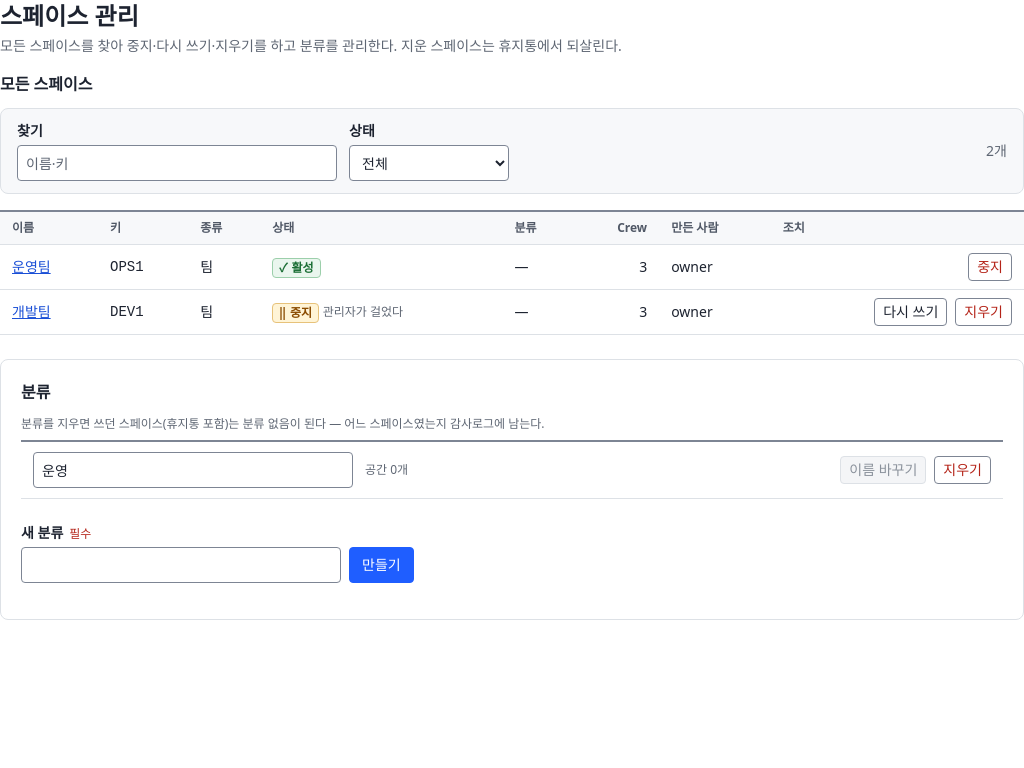
Test: AdminSpacesPage — 모든 스페이스 › **그만두면 보내지 않는다** — 중지·지우기 모두
The image size is (1024, 768).
Expected: the link "운영팀" is shown, [12,257,51,276]
Click the button "중지". click: (990, 267)
box: [968,253,1012,281]
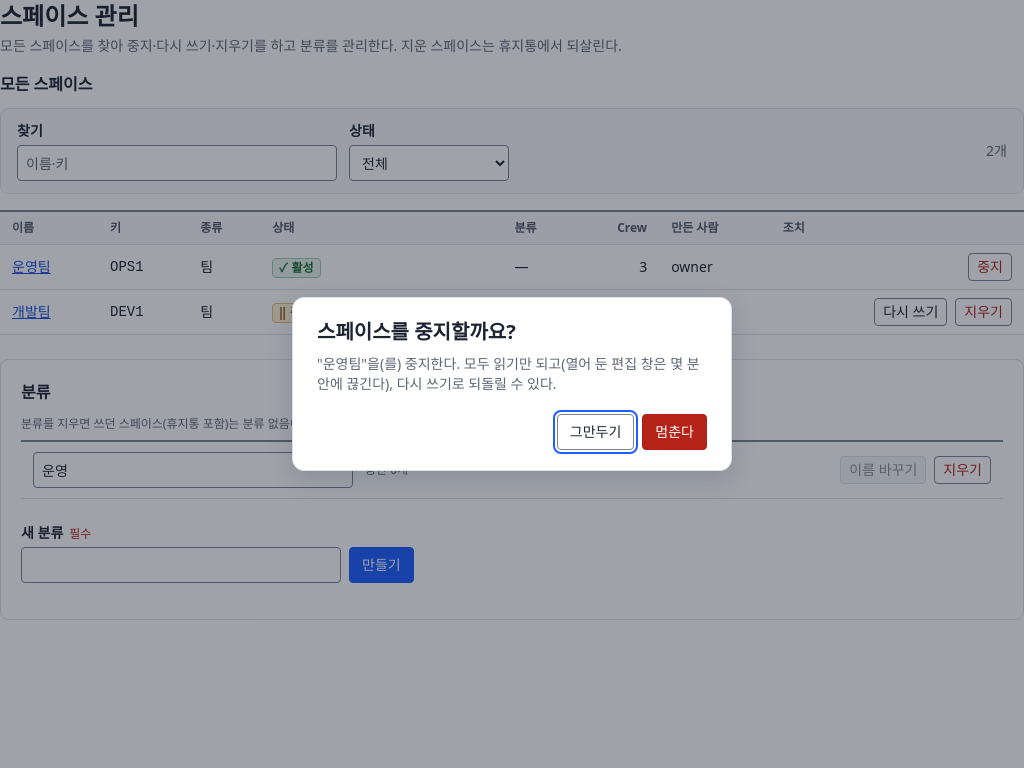
Click the button "그만두기". click: (596, 432)
box: [557,414,634,450]
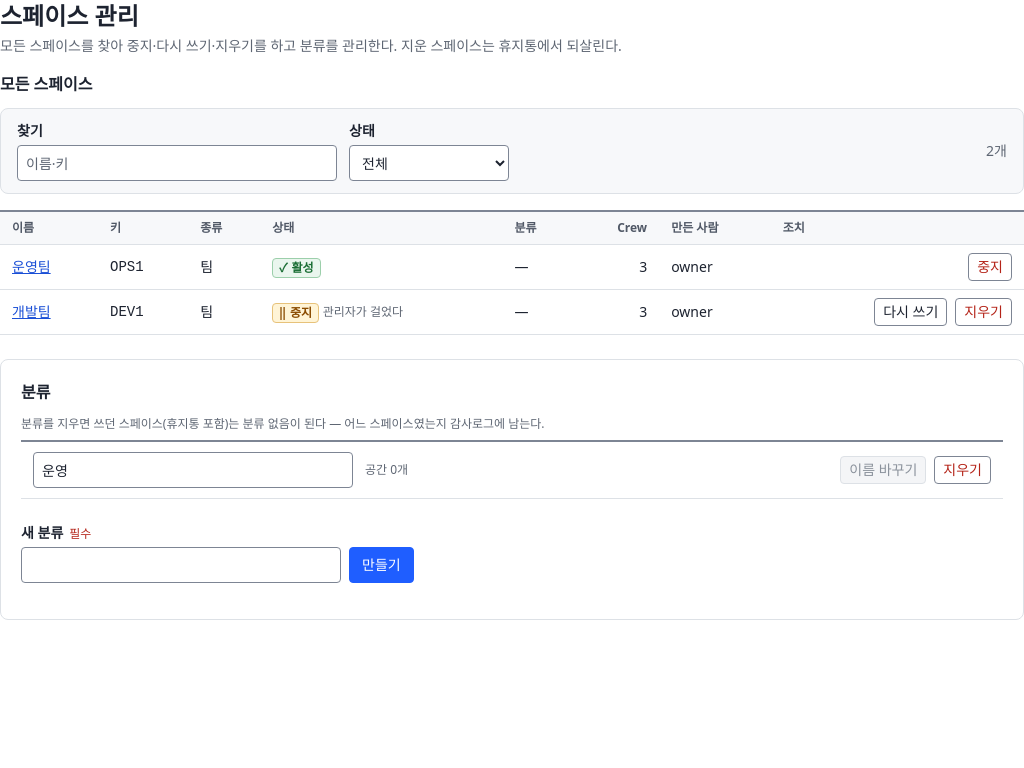
Result: the dialog is gone
Click the button "지우기" in the row of "개발팀". click: (984, 312)
box: [955,298,1012,326]
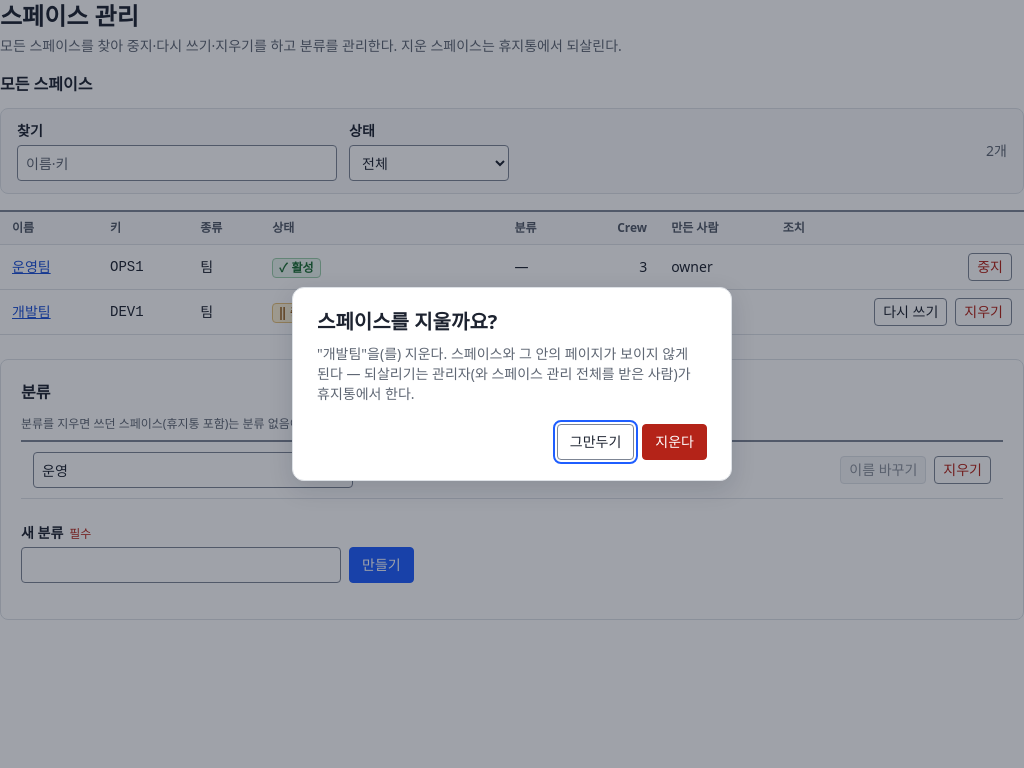
Click the button "그만두기". click: (596, 442)
box: [557,424,634,460]
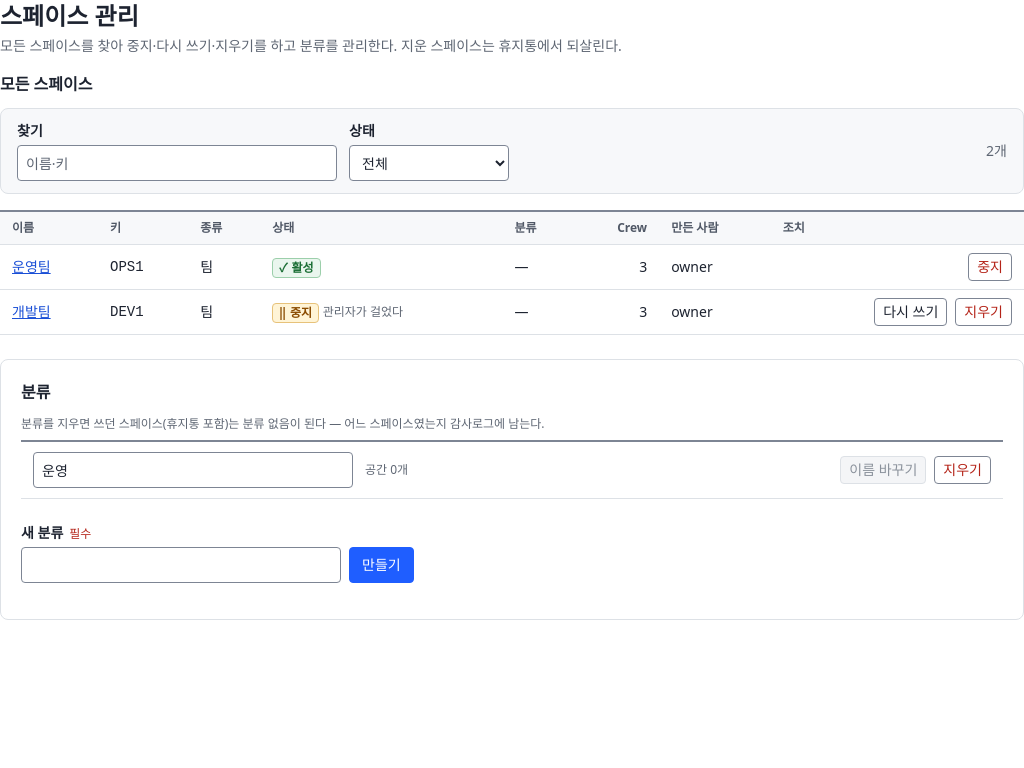
Result: the dialog is gone
